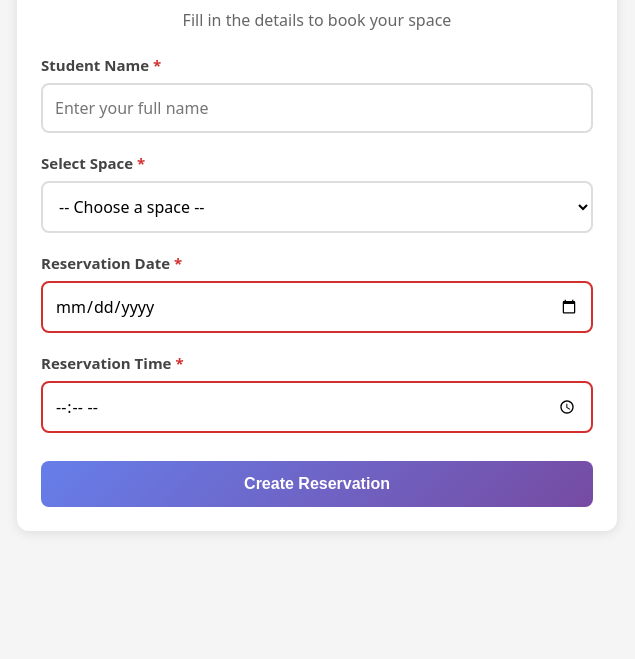
Test case: ReservationForm Component › should have proper alt text for the space image
// Select a space
Select "Classrooms (Education) - Capacity: 30" in the dropdown labelled "Select Space *" at coordinates (317, 207), box [41,181,593,233]
(page scrolled)
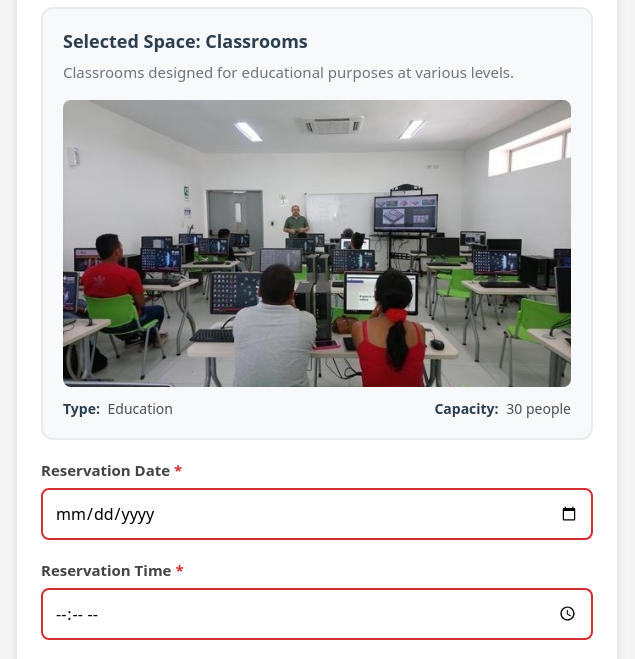
Now the picture with alt text "Classrooms" is shown, box [63,100,571,386]
